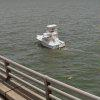Boat: (32, 25, 67, 53)
